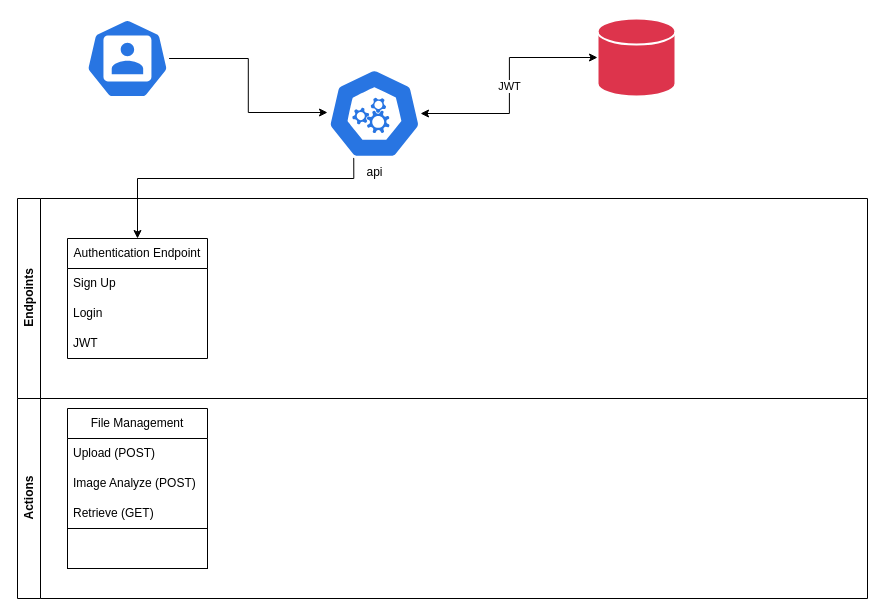
Image size: 885x616. Some labels were removed from this diagram. Each missing label, with the centre of its shape:
"DB Postgres" goes at [636,57].
"List all (GET) [Paginated]" goes at [137,548].
